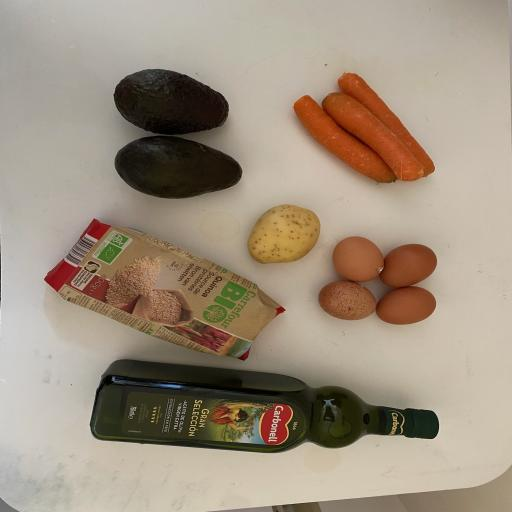avocado: (112, 132, 246, 202), (111, 66, 231, 136)
carrot: (333, 70, 440, 181), (320, 90, 426, 186), (291, 93, 397, 186)
egg: (374, 241, 442, 290), (316, 278, 380, 324), (372, 284, 440, 326), (329, 234, 386, 284)
olive_oil: (85, 355, 442, 456)
potato: (243, 202, 322, 269)
quinoa: (44, 216, 288, 366)
